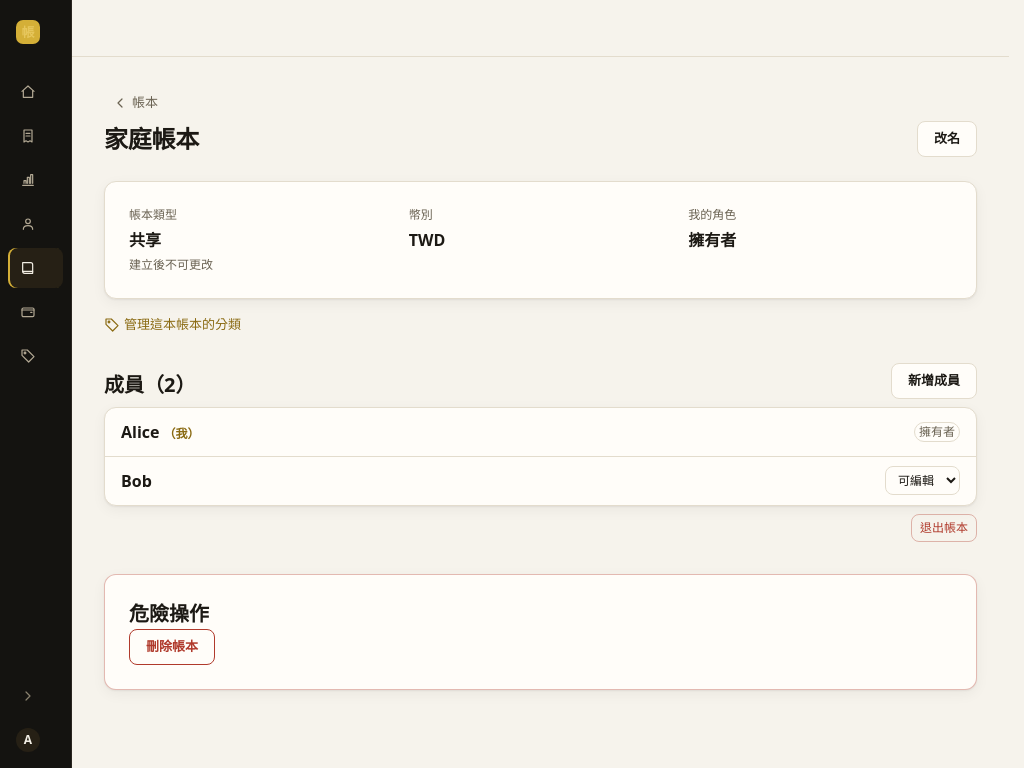
Test: Ledger members › says the person has to register when the email is unknown
The image size is (1024, 768).
Click the button "新增成員" at (934, 380), box 891,362 -> 977,398
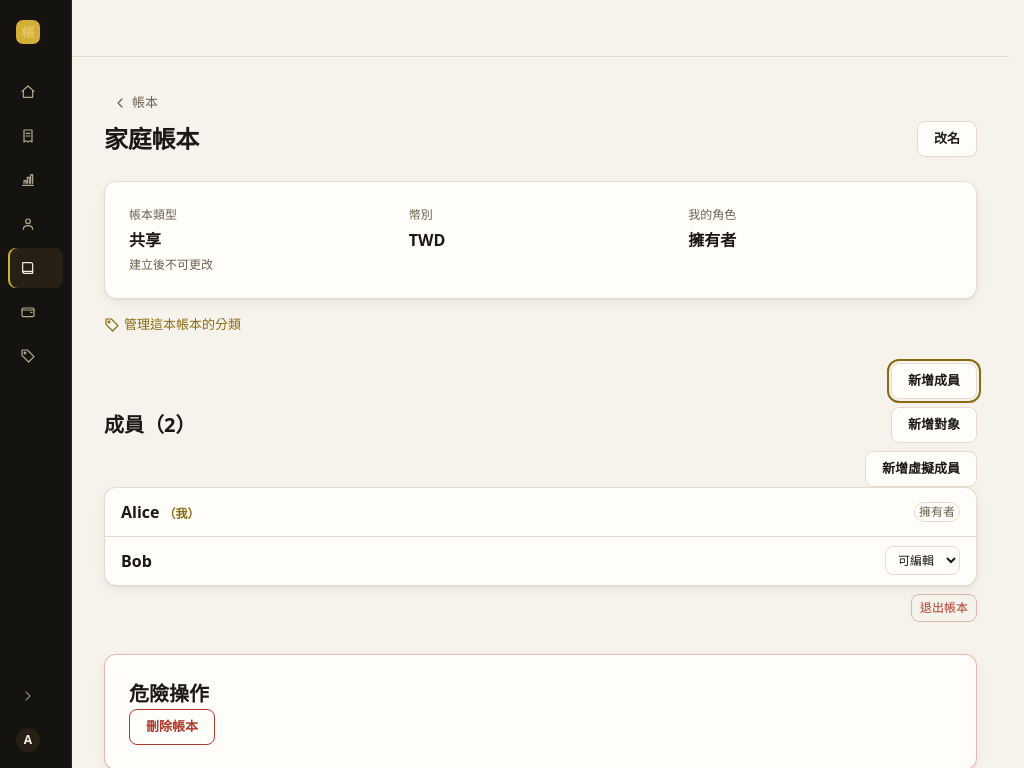
Click the button "新增對象" at (934, 424), box 891,406 -> 977,442
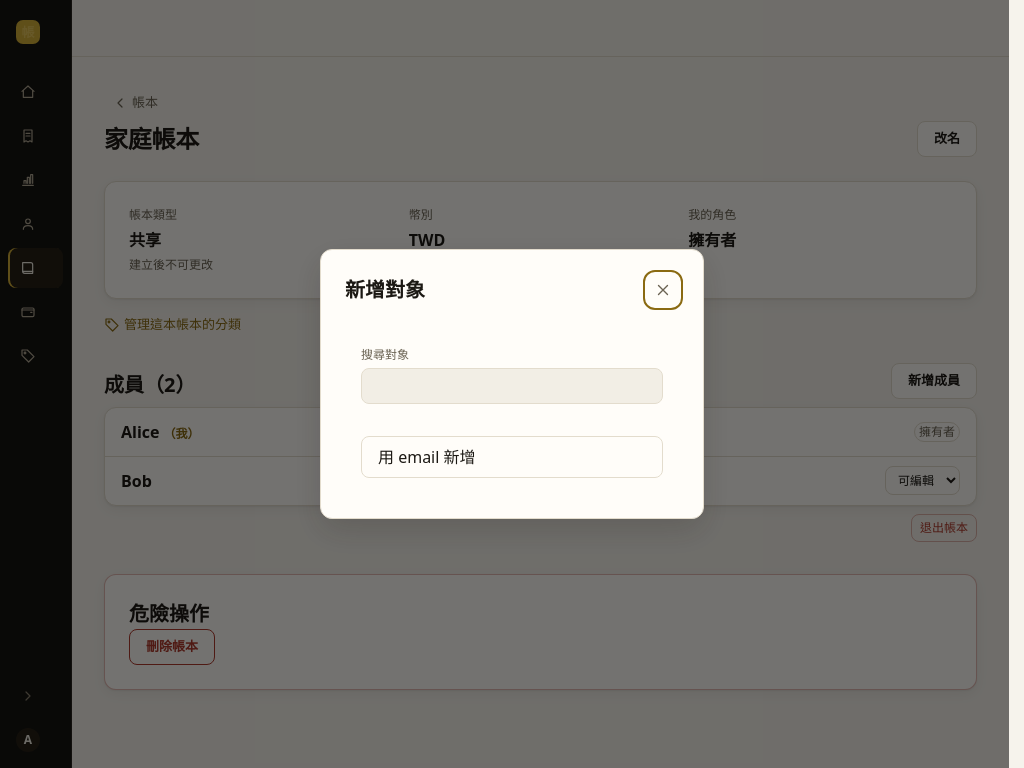
Click the button "用 email 新增" at (427, 457), box 362,437 -> 662,477
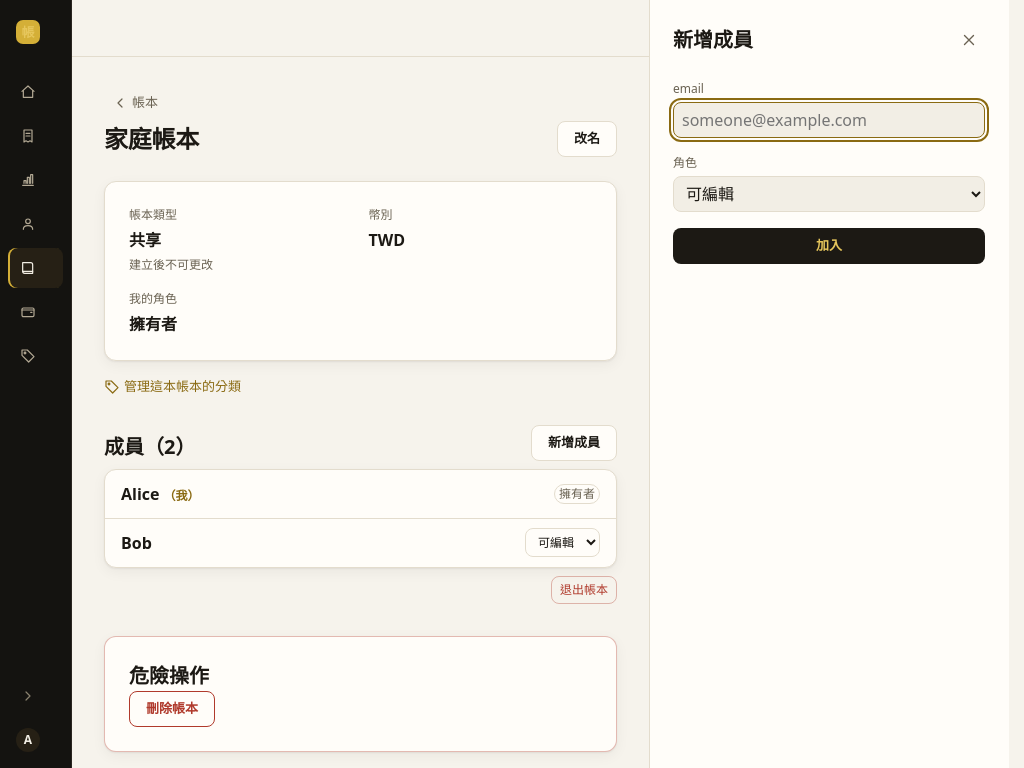
Type "ghost@example.com" into the field labelled "email" at (829, 120), box 673,102 -> 985,138
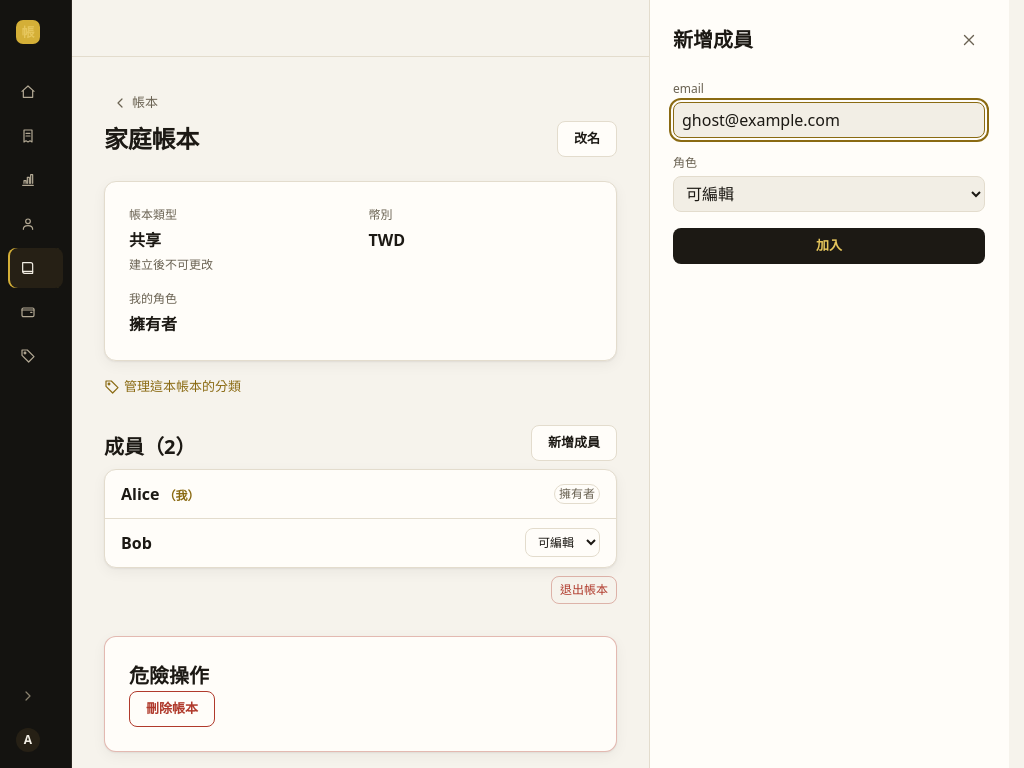
Click the button "加入" at (829, 246), box 673,228 -> 985,264
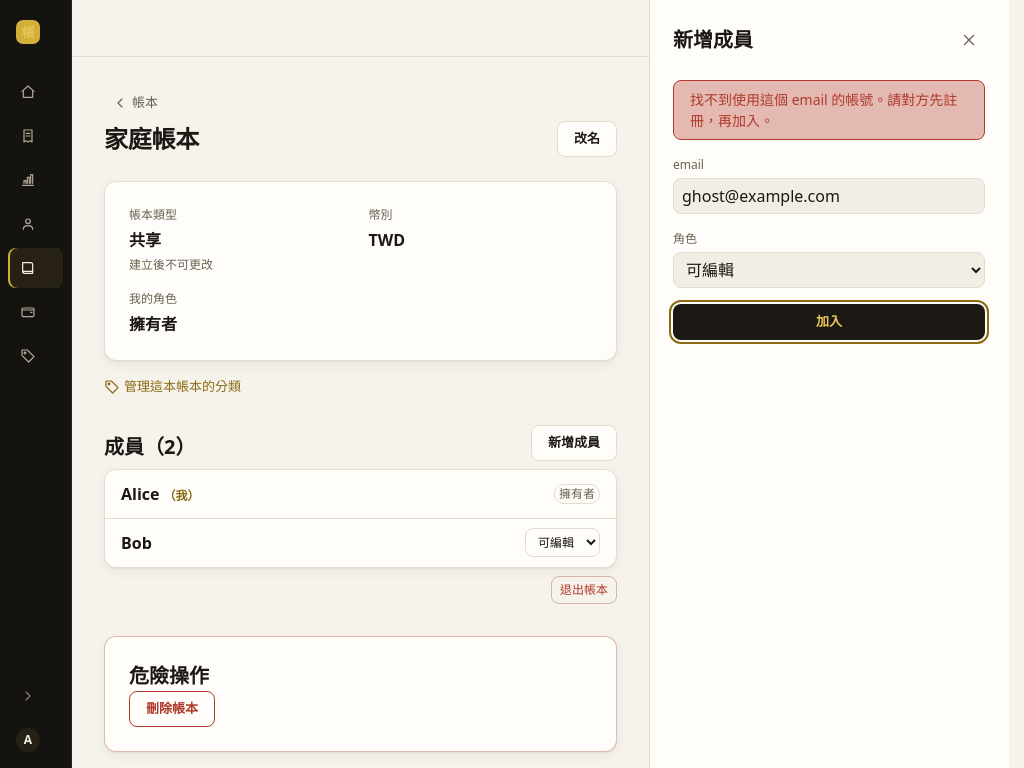
Result: the message shows "找不到使用這個 email 的帳號" at 690,90 -> 957,130
